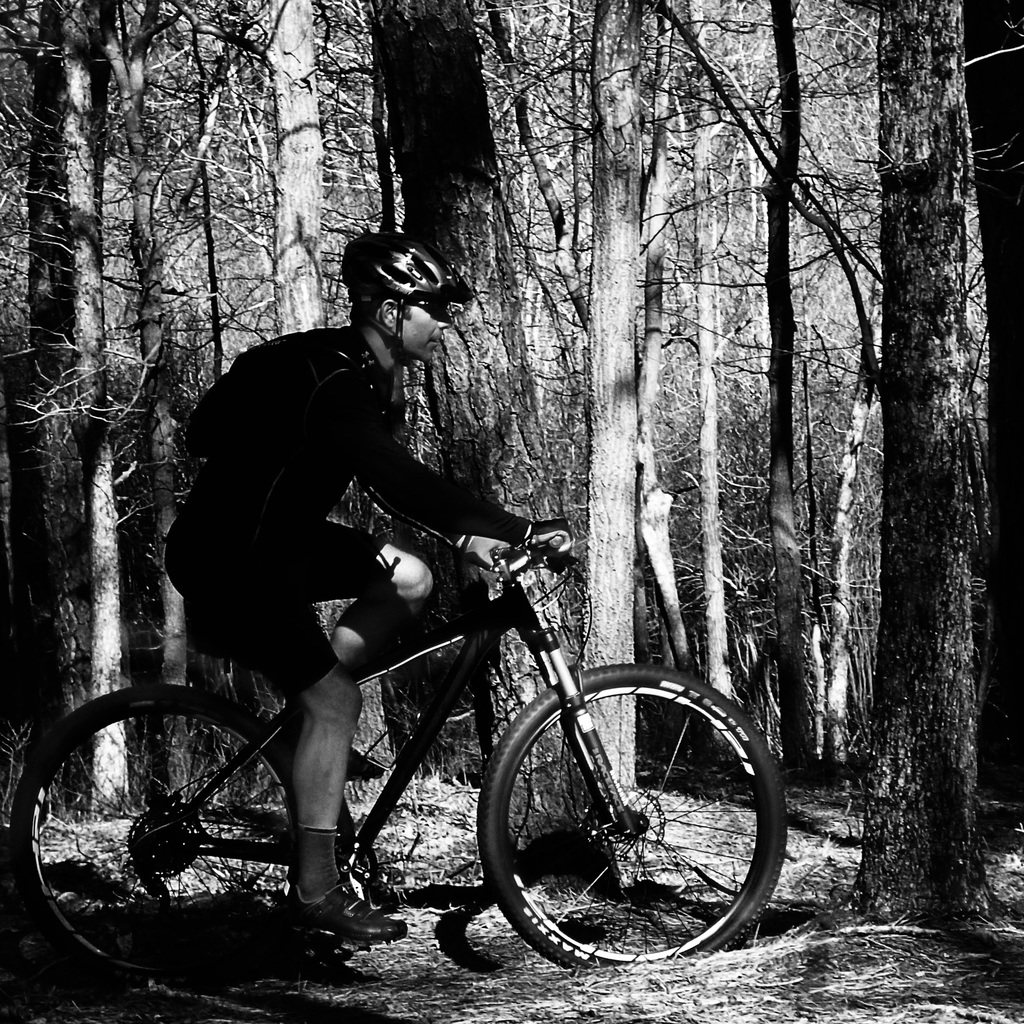Bike_away: (24, 534, 784, 961)
